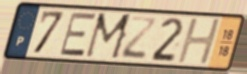2: (148, 16, 185, 63)
7: (33, 9, 68, 57)
E: (58, 12, 98, 58)
H: (175, 17, 224, 66)
M: (82, 11, 135, 61)
Z: (118, 14, 159, 61)
